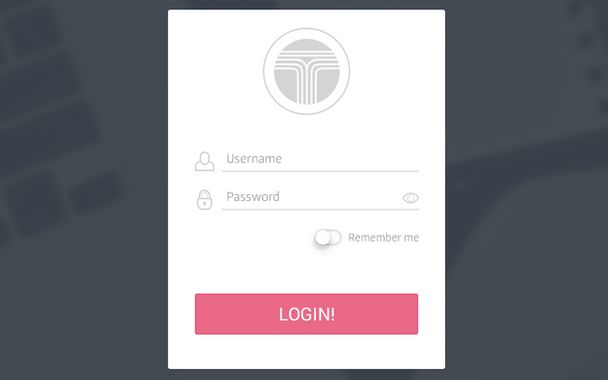button: (192, 290, 421, 337)
field_line: (220, 187, 421, 213), (220, 149, 419, 174)
